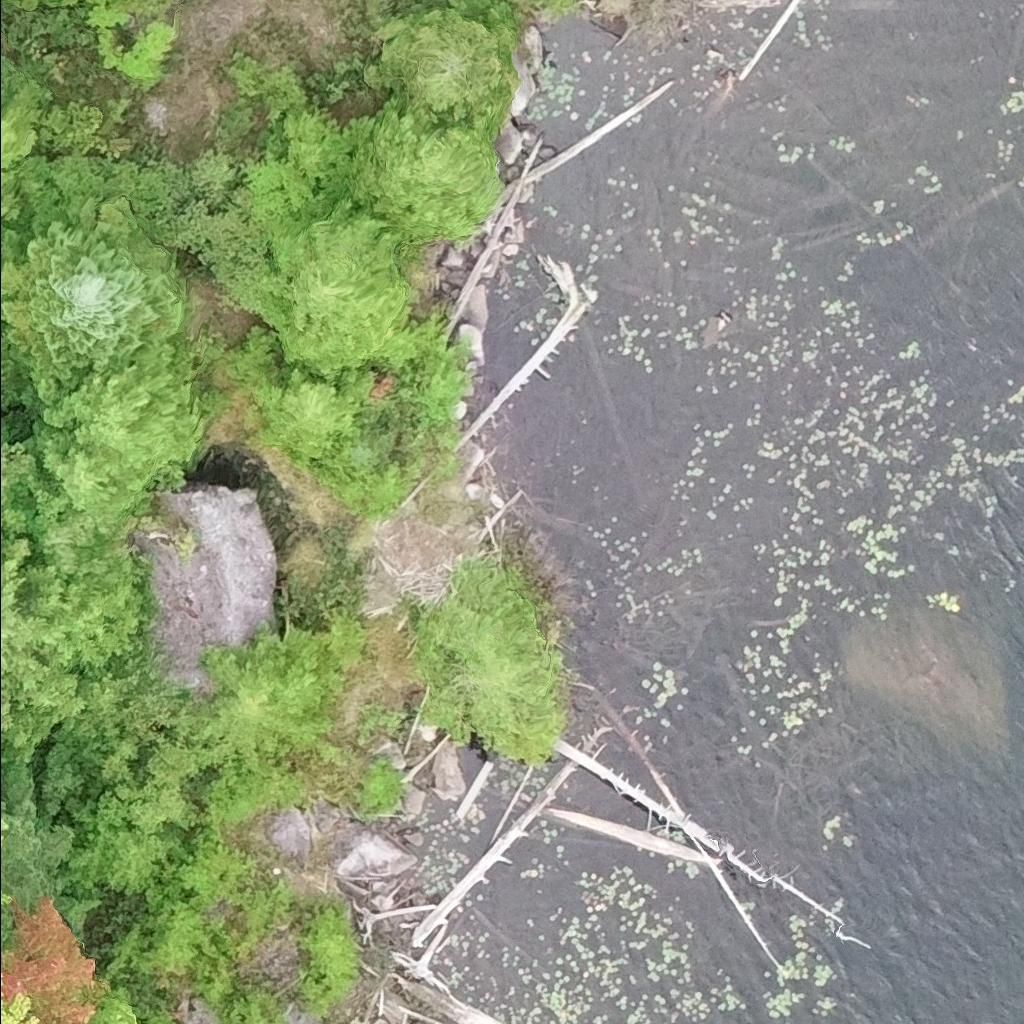crown: (0, 193, 185, 391), (424, 553, 564, 764), (253, 197, 408, 386), (339, 94, 502, 244), (199, 611, 363, 756), (36, 364, 204, 494), (365, 0, 516, 141), (0, 533, 84, 703), (0, 897, 110, 1023), (244, 364, 364, 470), (0, 60, 50, 225), (0, 974, 43, 1023), (7, 0, 89, 11), (0, 818, 10, 840), (0, 880, 10, 901), (109, 0, 129, 3), (93, 0, 109, 3)
